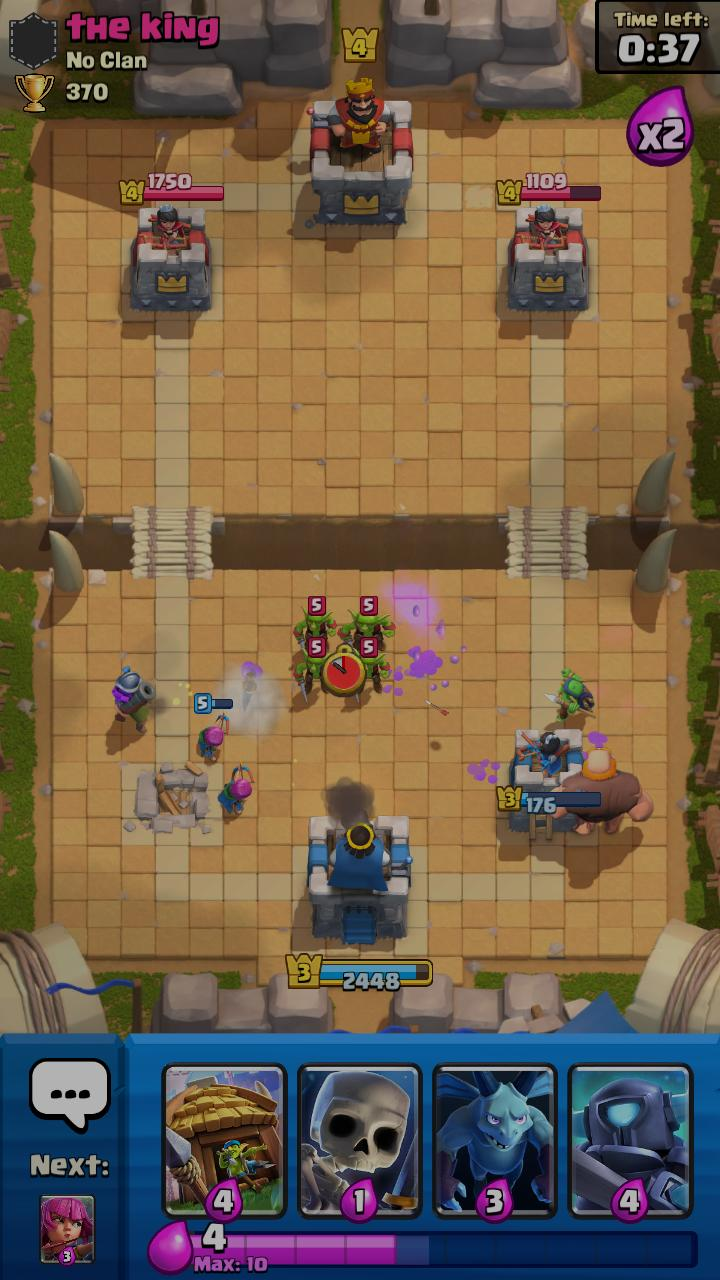ally: (549, 747, 654, 834), (112, 666, 156, 734), (544, 669, 596, 723), (194, 693, 233, 762), (217, 760, 255, 815)
enemy: (338, 596, 396, 650), (293, 637, 333, 703), (353, 637, 391, 702), (293, 596, 337, 649)
